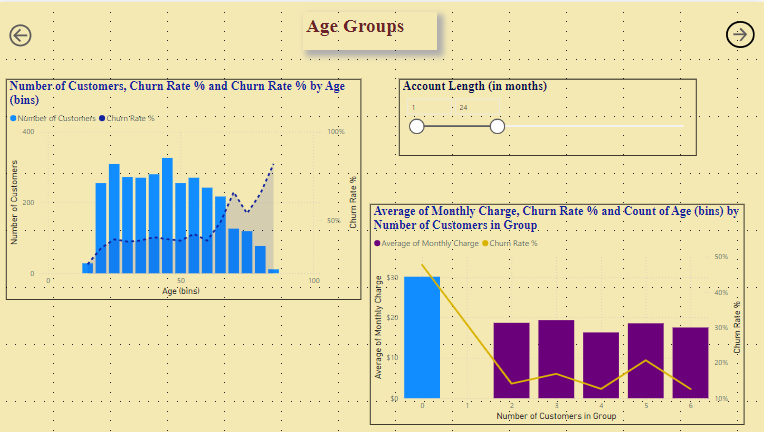

The page's visual inventory and layout, read from the dashboard file:
{"tool":"powerbi","page":{"name":"Age Groups","canvas":[1280,720],"ordinal":6},"visuals":[{"type":"lineStackedColumnComboChart","fields":{"Category":["Databel - Data.Age (bins)"],"Y":["__Measures.Number of Customers"],"Y2":["__Measures.Churn Rate %"]},"box":[16,128,592,368],"z":0},{"type":"lineStackedColumnComboChart","fields":{"Category":["Databel - Data.Number of Customers in Group"],"Y":["Avg(Databel - Data.Monthly Charge)"],"Y2":["__Measures.Churn Rate %"]},"box":[624,336,624,368],"z":1000},{"type":"slicer","title":"Account Length (in months)","fields":{"Values":["Databel - Data.Account Length (in months)"]},"box":[672,128,496,128],"z":2000},{"type":"actionButton","box":[16,32,48,48],"z":3000},{"type":"actionButton","box":[1216,32,48,45],"z":4000},{"type":"textbox","box":[512,16,224,64],"z":4001}]}

Visuals, with their boxes in screenshot pixels (x1, y1, x2, y2), scaled from the page's 1280x720 canvas onto the 764x432 screenshot:
lineStackedColumnComboChart - Databel - Data.Age (bins) x __Measures.Number of Customers: <box>10,77,363,298</box>
lineStackedColumnComboChart - Databel - Data.Number of Customers in Group x Avg(Databel - Data.Monthly Charge): <box>372,202,745,422</box>
"Account Length (in months)" slicer: <box>401,77,697,154</box>
actionButton: <box>10,19,38,48</box>
actionButton: <box>726,19,754,46</box>
textbox: <box>306,10,439,48</box>
